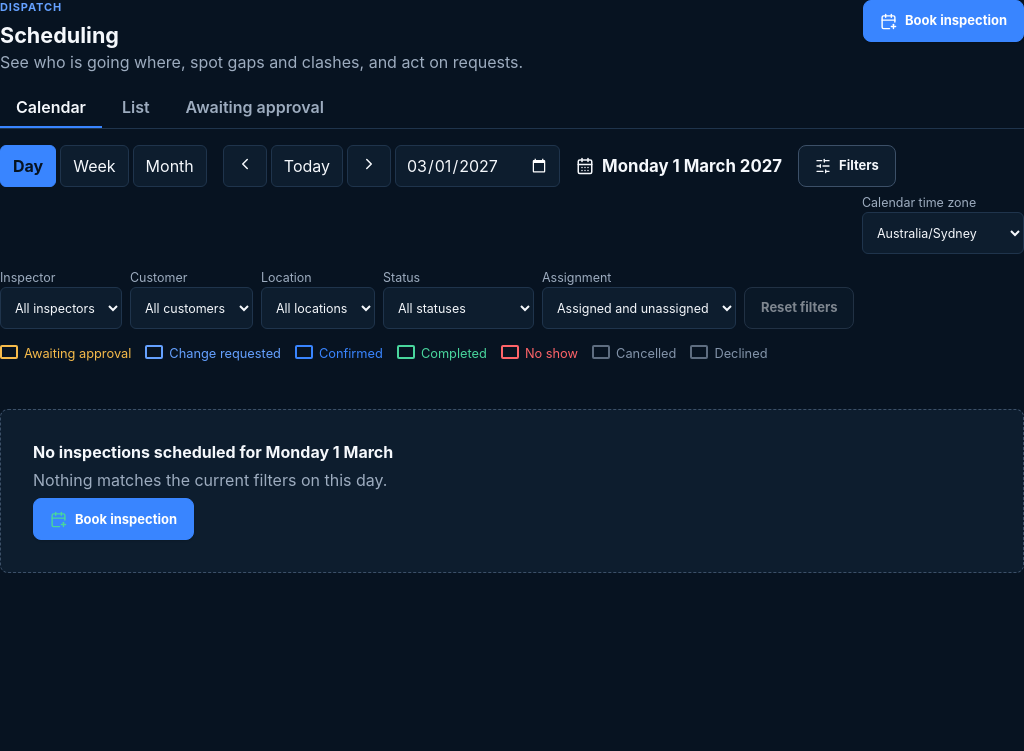
Test: Week and Month views › says so when a month has nothing in it
Check: the text "No inspections scheduled for Monday 1 March" is shown, box [33,442,393,462]
Click the button "Month" at (170, 166), box [133,145,207,187]
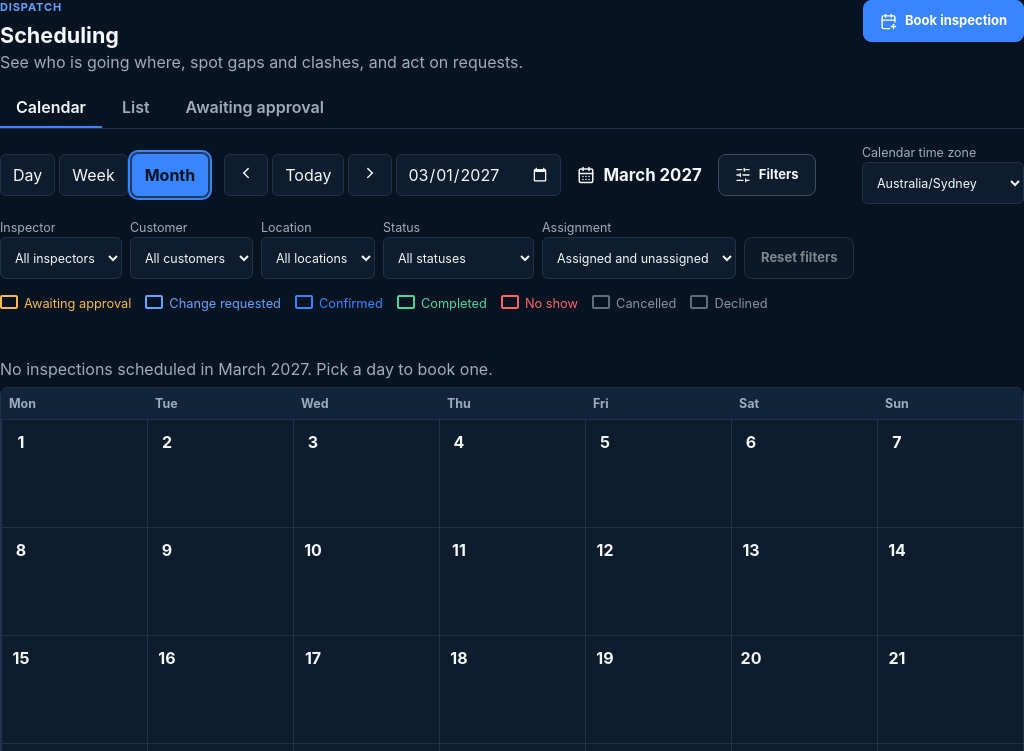
Check: the text "No inspections scheduled in March 2027. Pick a day to book one." is shown, box [0,359,493,379]
